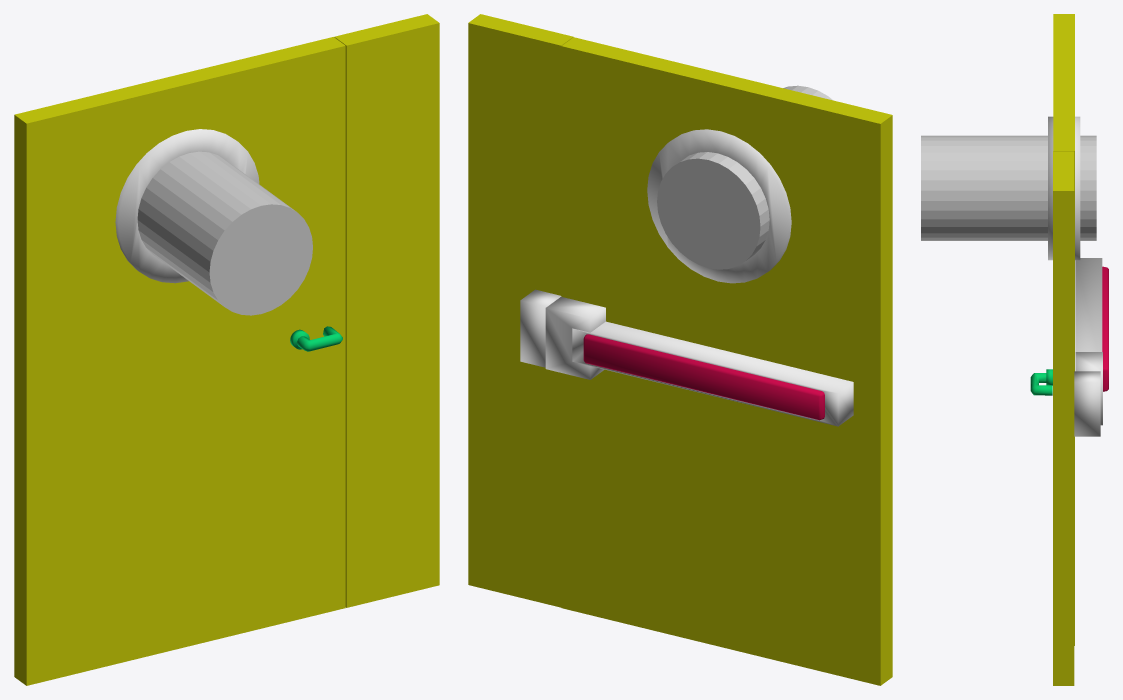
File: PuertaFinal.fbx
3 views of the same model, side by side, from view 1: azimuth 30°, elevation 25°; view 2: azimuth 150°, elevation 25°; view 3: azimuth 270°, elevation 25° (orthographic). The views are drawn at different scales.
Visible parts, largest first — view 1: Puerta1, Puerta2FIJA, Cylinder, MarcoCristal, Manilla; view 2: Puerta1, Puerta2FIJA, Cylinder, CierrePuerta1, Pushrojo, MarcoCristal, CierrePuerta2; view 3: Cylinder, Puerta2FIJA, Puerta1, CierrePuerta1, CierrePuerta2, MarcoCristal, Pushrojo, Manilla.
Boxes of the visible parts, left/top/right/bottom form: Puerta1: left=14, top=37, right=345, bottom=685; Puerta2FIJA: left=334, top=14, right=439, bottom=607; Cylinder: left=137, top=151, right=312, bottom=315; MarcoCristal: left=115, top=129, right=259, bottom=283; Manilla: left=296, top=326, right=342, bottom=351; Puerta1: left=561, top=37, right=892, bottom=685; Puerta2FIJA: left=468, top=14, right=573, bottom=607; Cylinder: left=657, top=85, right=833, bottom=269; CierrePuerta1: left=545, top=296, right=853, bottom=426; Pushrojo: left=583, top=334, right=824, bottom=420; MarcoCristal: left=647, top=129, right=791, bottom=283; CierrePuerta2: left=520, top=289, right=561, bottom=367; Cylinder: left=921, top=135, right=1096, bottom=240; Puerta2FIJA: left=1053, top=151, right=1074, bottom=685; Puerta1: left=1053, top=14, right=1074, bottom=645; CierrePuerta1: left=1075, top=258, right=1102, bottom=425; CierrePuerta2: left=1074, top=371, right=1100, bottom=436; MarcoCristal: left=1048, top=116, right=1080, bottom=260; Pushrojo: left=1102, top=266, right=1108, bottom=391; Manilla: left=1030, top=373, right=1052, bottom=395.
Bounding box in the file's own units: 1.55 × 2.02 × 0.6946.
